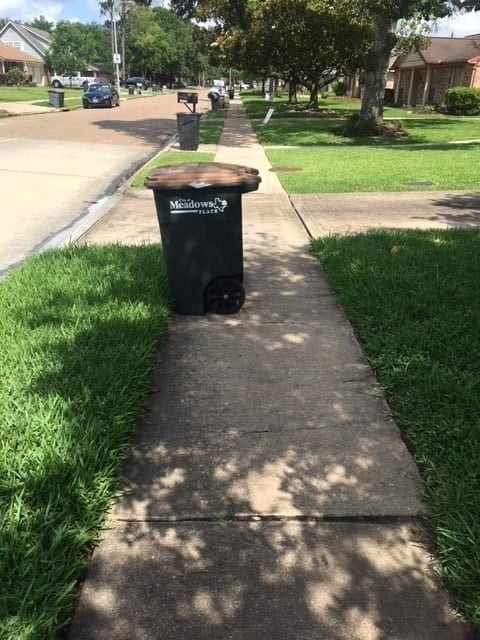Car: (78, 82, 125, 109)
TrashBin: (136, 162, 282, 332)
Tree: (218, 1, 362, 117)
